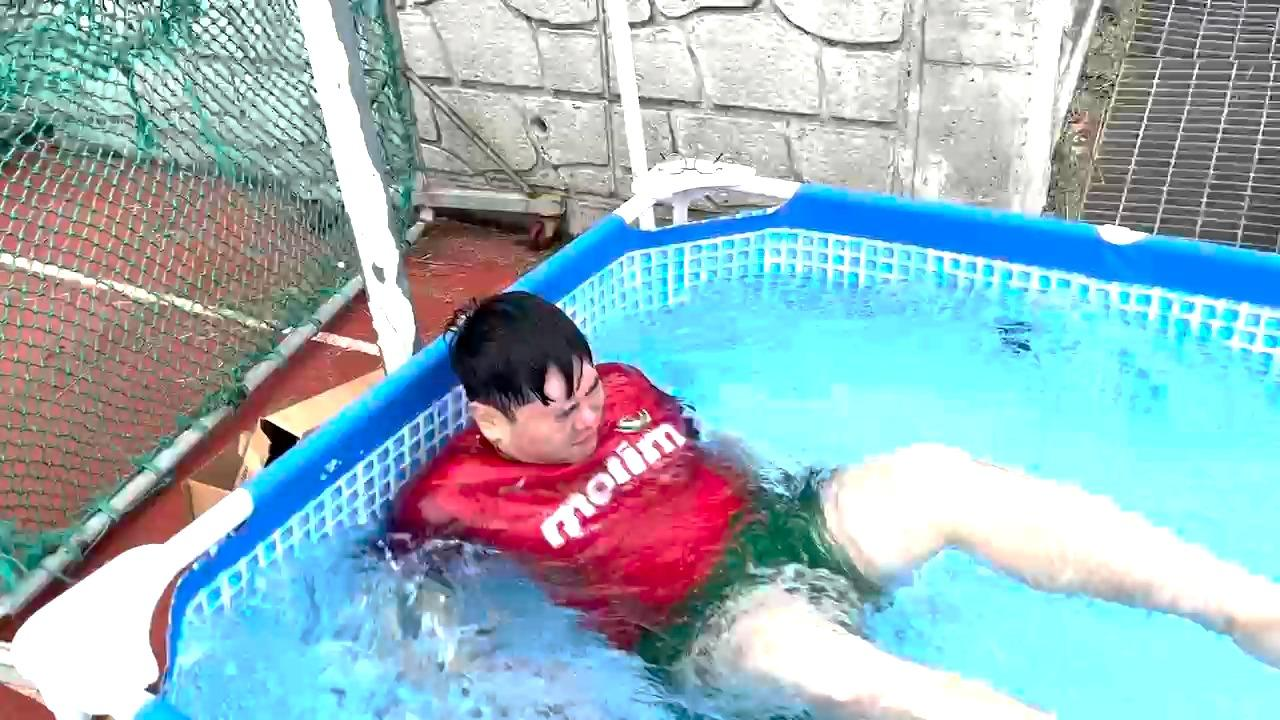Drowning: (342, 252, 1246, 720)
